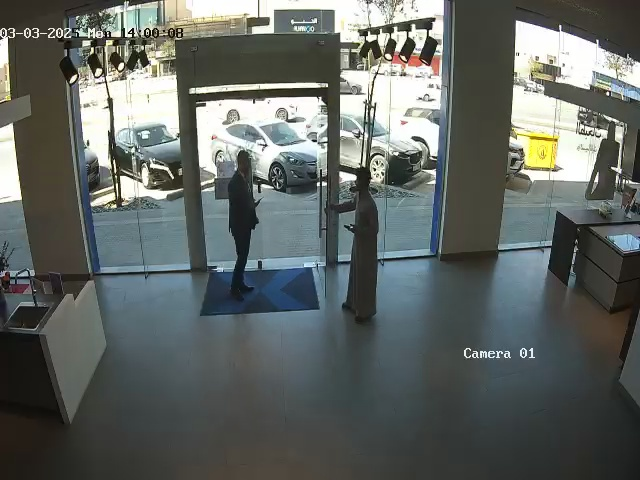employee: (227, 149, 263, 301)
male: (346, 163, 382, 328)
